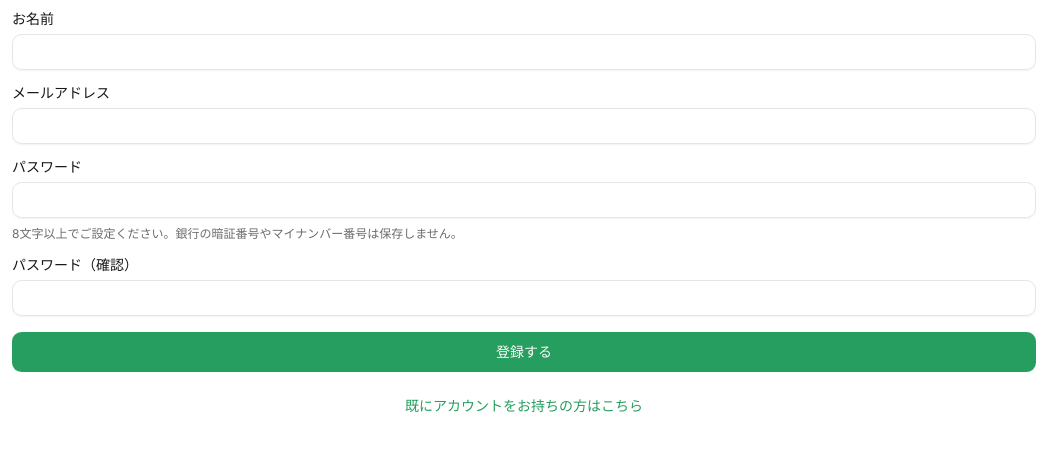
RegisterForm › shows a mismatch error on the passwordConfirmation field
Type "山田 太郎" into the field labelled "お名前" at (524,52), box [12,34,1036,70]
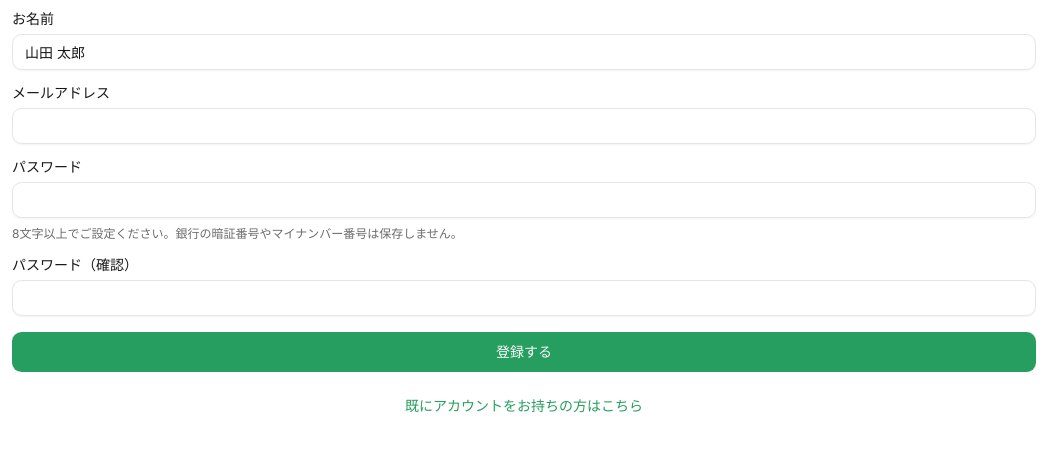
Type "taro@example.com" into the field labelled "メールアドレス" at (524,126), box [12,108,1036,144]
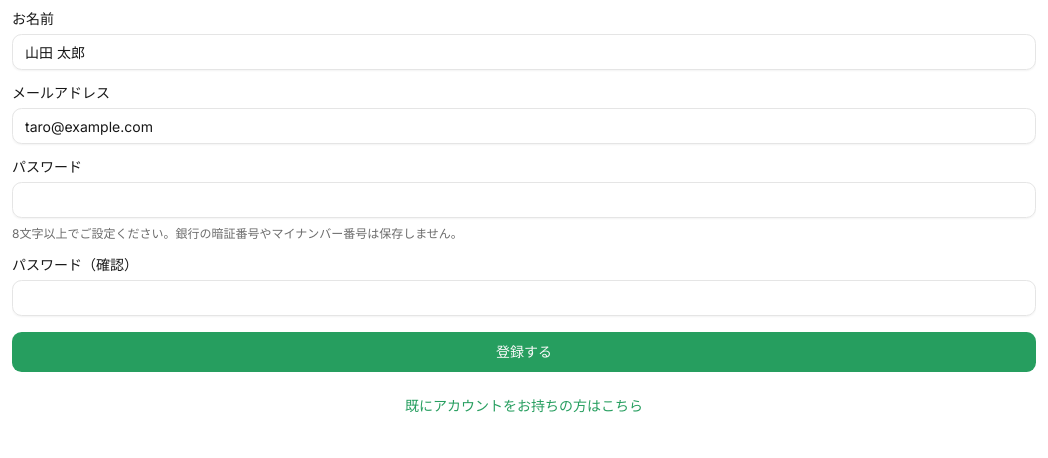
Type "password123" into the password field labelled "パスワード" at (524,200), box [12,182,1036,218]
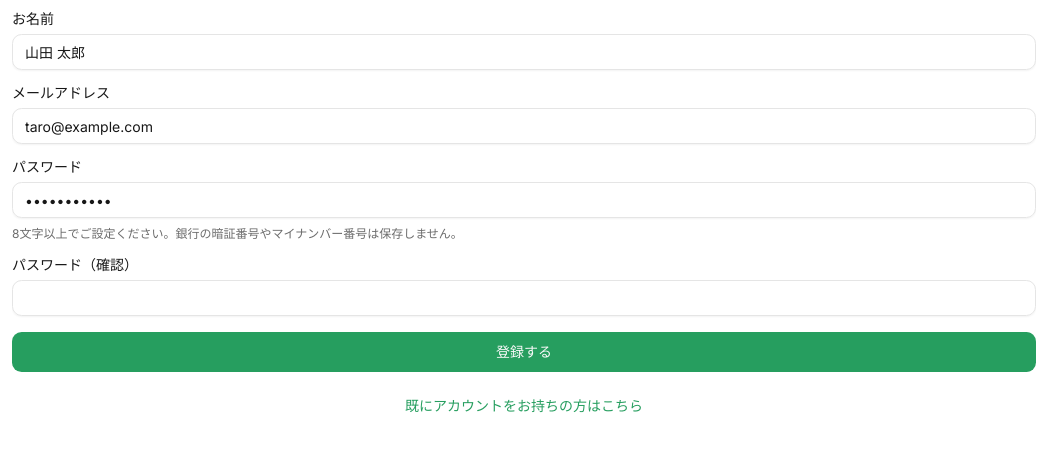
Type "differentPass1" into the password field labelled "パスワード（確認）" at (524,298), box [12,280,1036,316]
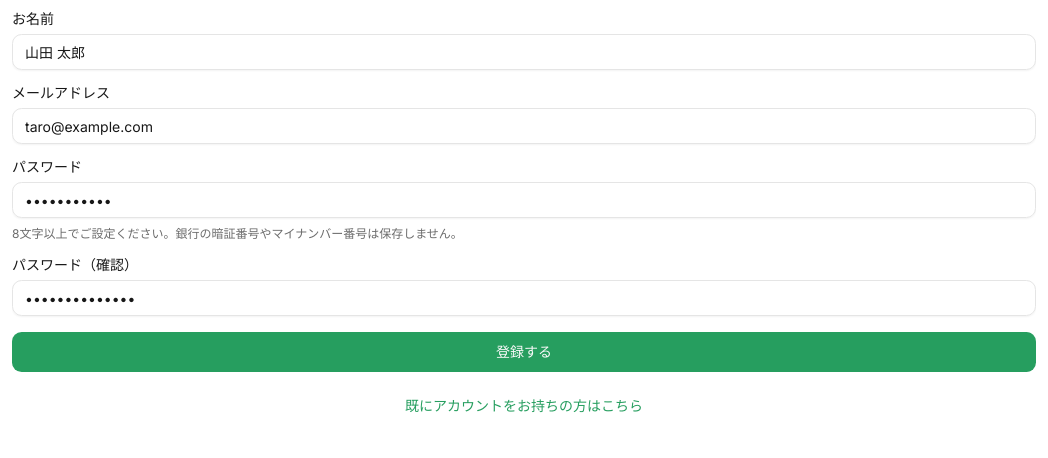
Click the button "登録する" at (524,352), box [12,332,1036,372]
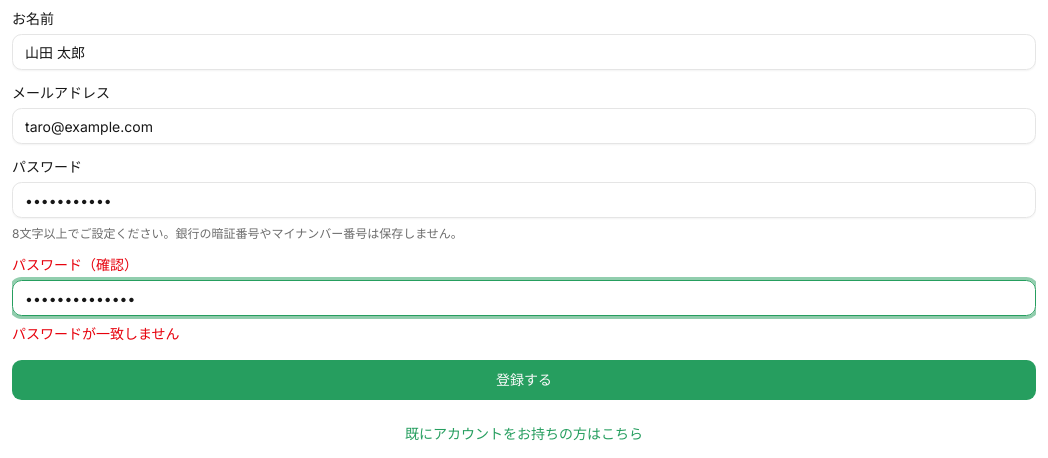
Expected: the text "パスワードが一致しません" is shown, [12,325,180,342]
